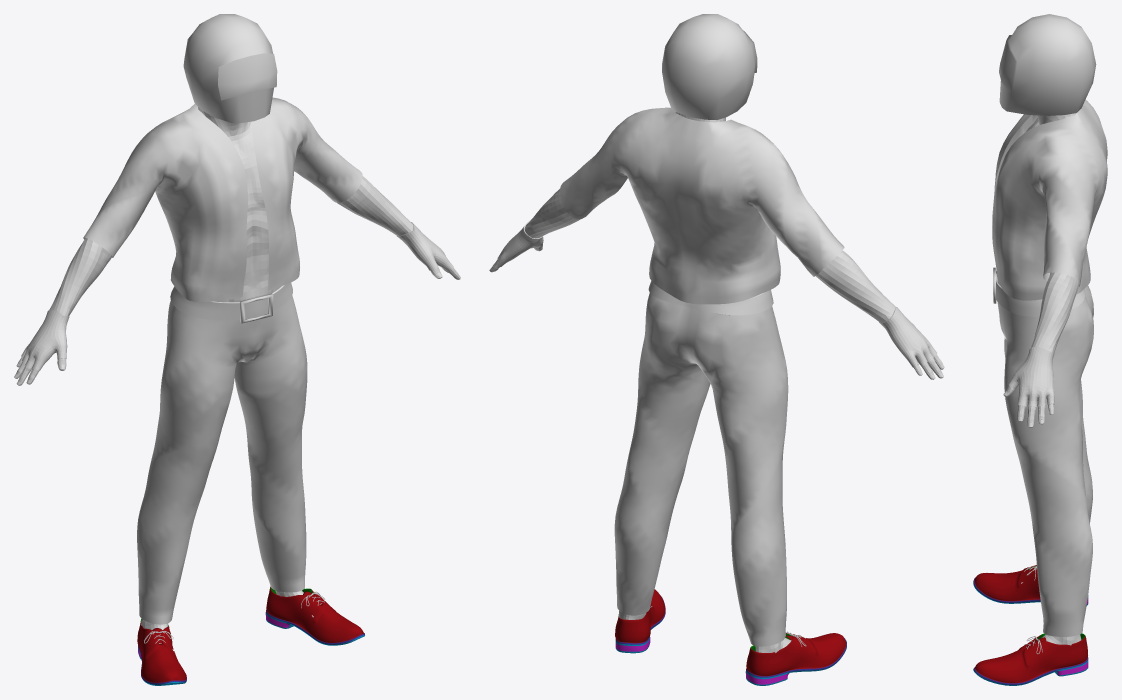
Rendered from biker.fbx.
3 renders of one model, left to right at view 1: azimuth 30°, elevation 25°; view 2: azimuth 150°, elevation 25°; view 3: azimuth 270°, elevation 25°, orthographic. The views are drawn at different scales.
Parts seen in each view (by area): view 1: helmet; view 2: helmet; view 3: helmet.
Boxes of the visible parts, x1=… form: helmet: x1=14, y1=14, x2=460, y2=685; helmet: x1=489, y1=14, x2=944, y2=685; helmet: x1=973, y1=14, x2=1107, y2=685.
Size of the model in its own units: 136 by 183 by 36.12.
